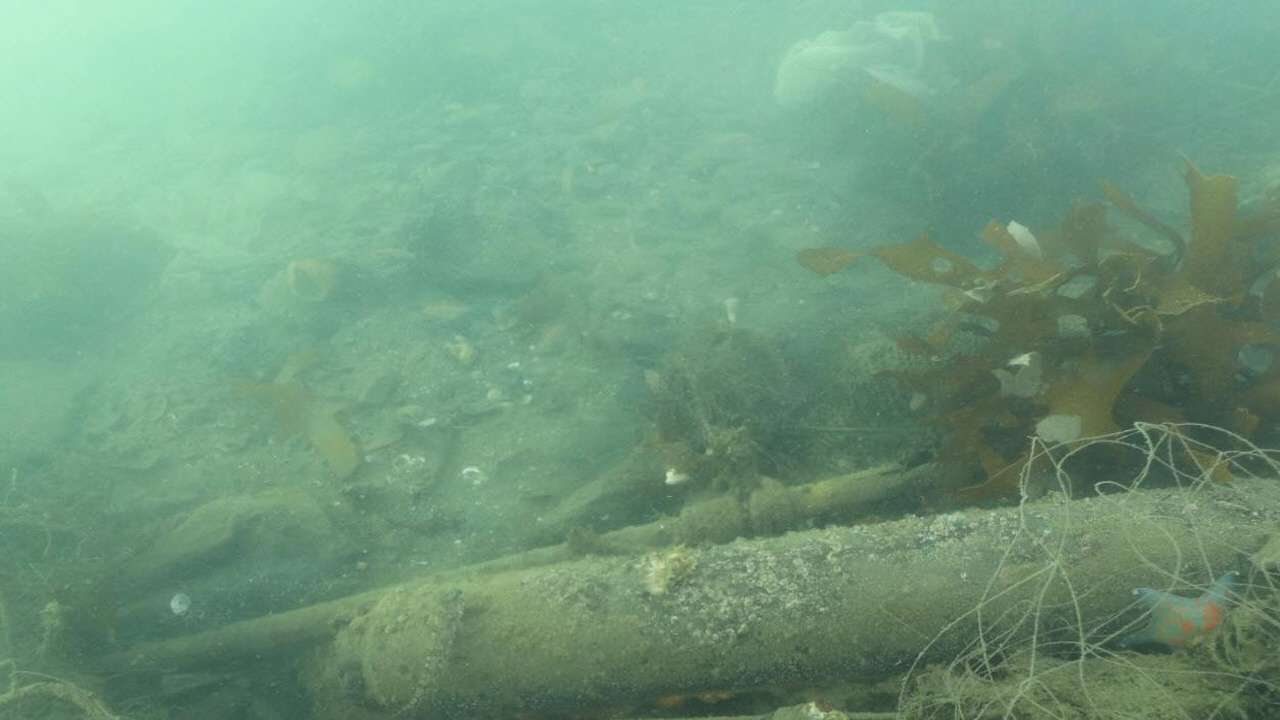eel fish trap: (326, 475, 1280, 720)
